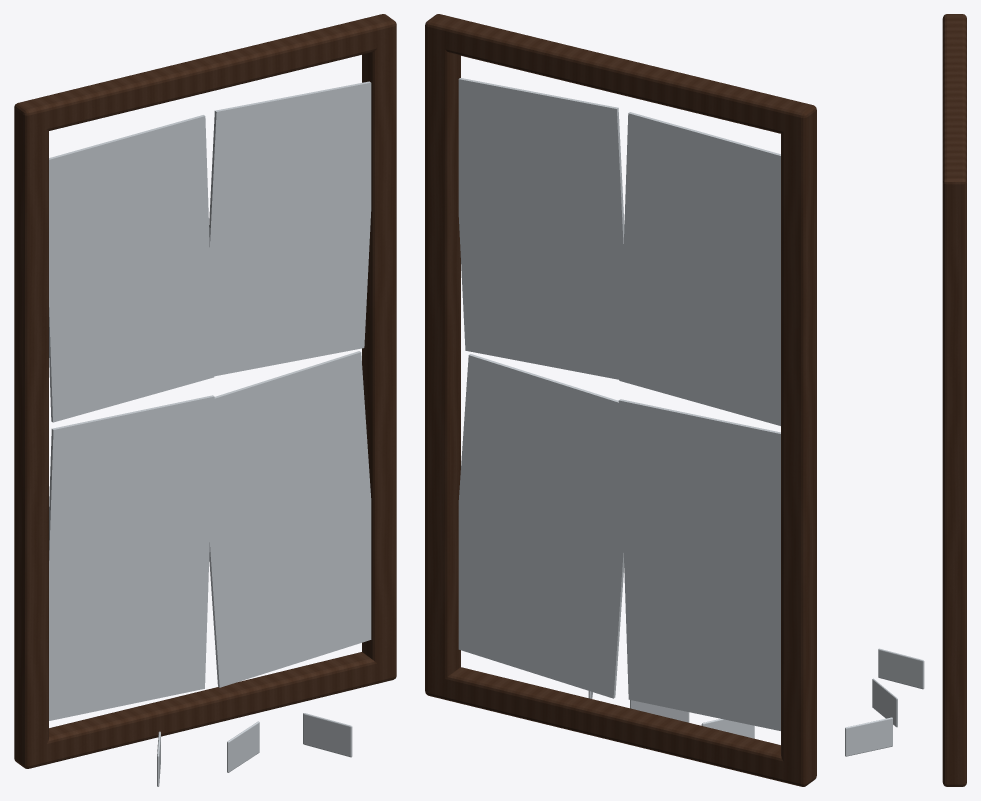
File: PRP_Mirror_Broken.fbx
The picture shows the model from 3 angles, left to right: view 1: azimuth 30°, elevation 25°; view 2: azimuth 150°, elevation 25°; view 3: azimuth 270°, elevation 25°; orthographic projection. The views are drawn at different scales.
Parts seen in each view (by area): view 1: Mirror_Frame, Mirror_Crack_03, Mirror_Crack_04, Mirror_Crack_02, Mirror_Crack_01, Mirror_Shard_03, Mirror_Shard_02; view 2: Mirror_Frame, Mirror_Crack_04, Mirror_Crack_03, Mirror_Crack_02, Mirror_Crack_01; view 3: Mirror_Frame, Mirror_Shard_03, Mirror_Shard_01, Mirror_Shard_02.
Boxes of the visible parts, x1,y1,x2,y2 form: Mirror_Frame: [14, 14, 396, 768]; Mirror_Crack_03: [49, 395, 214, 720]; Mirror_Crack_04: [200, 351, 371, 687]; Mirror_Crack_02: [203, 81, 371, 378]; Mirror_Crack_01: [49, 115, 214, 422]; Mirror_Shard_03: [303, 713, 352, 757]; Mirror_Shard_02: [227, 721, 259, 772]; Mirror_Frame: [425, 14, 816, 786]; Mirror_Crack_04: [458, 354, 633, 698]; Mirror_Crack_03: [618, 399, 780, 730]; Mirror_Crack_02: [458, 78, 630, 381]; Mirror_Crack_01: [619, 112, 780, 425]; Mirror_Frame: [942, 14, 966, 786]; Mirror_Shard_03: [845, 717, 892, 756]; Mirror_Shard_01: [878, 648, 924, 689]; Mirror_Shard_02: [872, 678, 897, 727].
Size of the model in its own units: 74 by 128 by 22.72.
